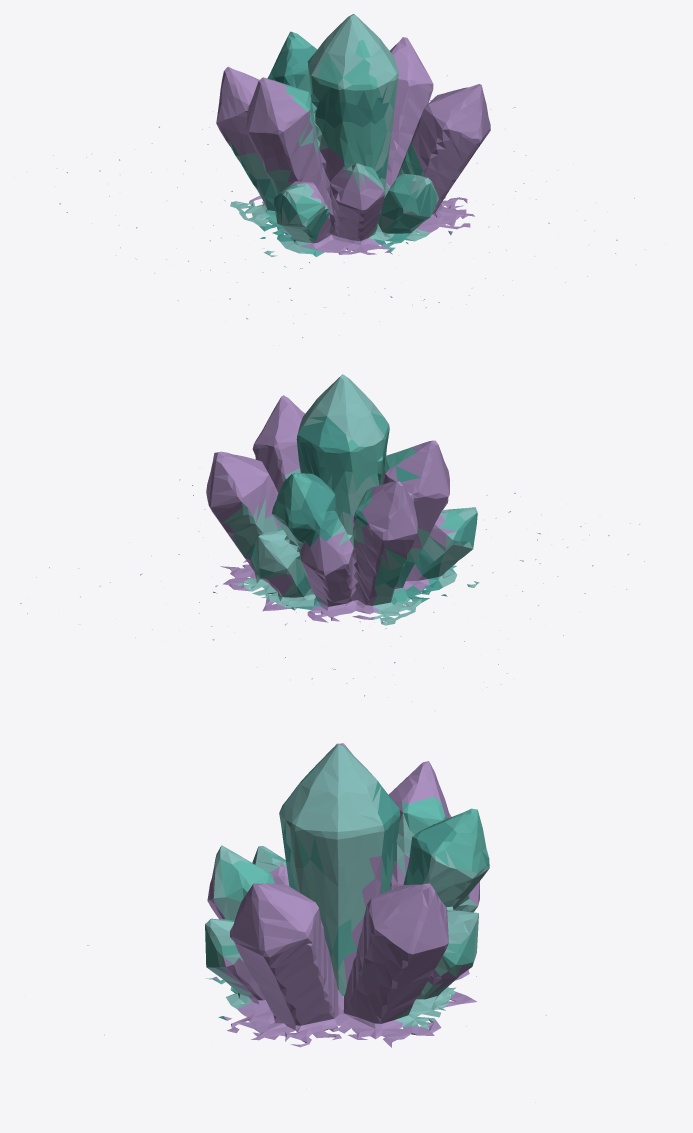
The model's file is crystal.glb.
3 renders of one model, top to bottom at view 1: azimuth 30°, elevation 25°; view 2: azimuth 150°, elevation 25°; view 3: azimuth 270°, elevation 25°, orthographic. The views are drawn at different scales.
Parts seen in each view (by area): view 1: geometry_0; view 2: geometry_0; view 3: geometry_0.
Boxes of the visible parts, x1,y1,x2,y2 form: geometry_0: (53,14,634,337); geometry_0: (20,374,644,701); geometry_0: (87,743,546,1047).
Size of the model in its own units: 1.93 by 0.8083 by 1.96.
